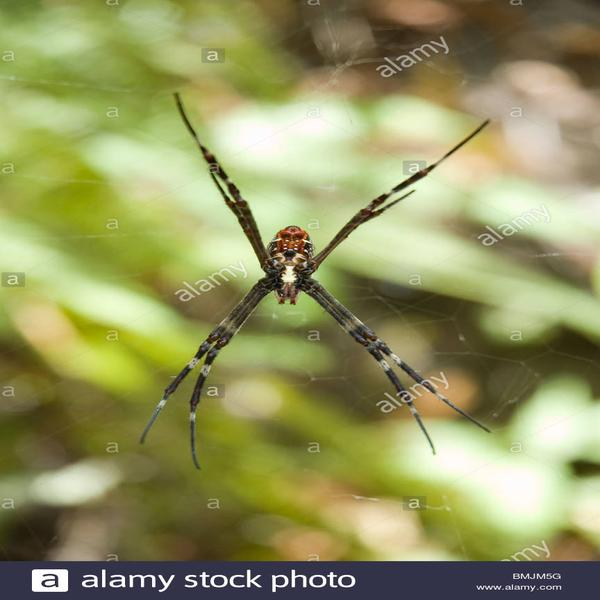St Andrew's Cross Spider: (169, 94, 488, 452)
